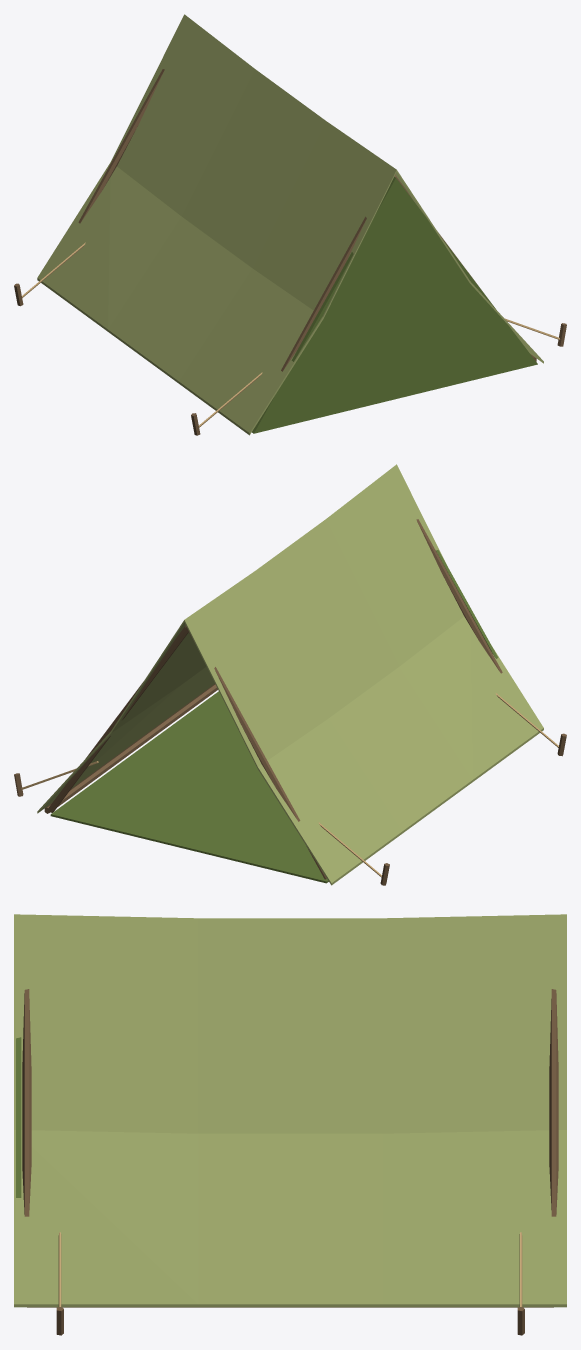
The model's file is TW_CAMP_TENT_RIDGE_A_LOD0.glb.
The picture shows the model from 3 angles, top to bottom: view 1: azimuth 30°, elevation 25°; view 2: azimuth 150°, elevation 25°; view 3: azimuth 270°, elevation 25°; orthographic projection. The views are drawn at different scales.
Visible parts, largest first — view 1: TW_CAMP_TENT_RIDGE_A; view 2: TW_CAMP_TENT_RIDGE_A; view 3: TW_CAMP_TENT_RIDGE_A.
Boxes of the visible parts, x1=… form: TW_CAMP_TENT_RIDGE_A: x1=14, y1=14, x2=566, y2=435; TW_CAMP_TENT_RIDGE_A: x1=14, y1=464, x2=566, y2=885; TW_CAMP_TENT_RIDGE_A: x1=14, y1=914, x2=566, y2=1335.
Size of the model in its own units: 3.06 by 1.82 by 3.
